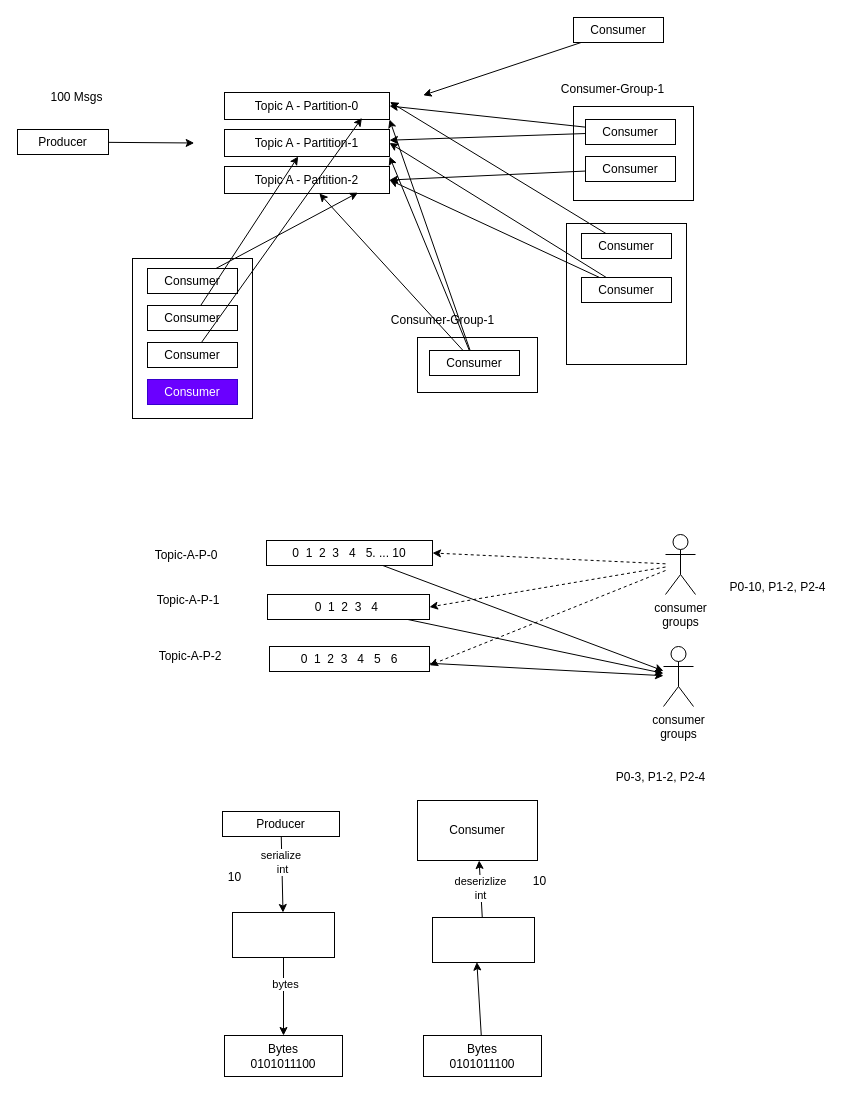
The diagram is 848 pixels wide and 1094 high, and some of its shapes have lost their labels. Each missing label, with the centre of its shape:
"KeyDeSerializer = IntegerDeSerializer" belongs at point (483, 939).
"KeySerializer = IntegerSerializer" belongs at point (283, 935).
